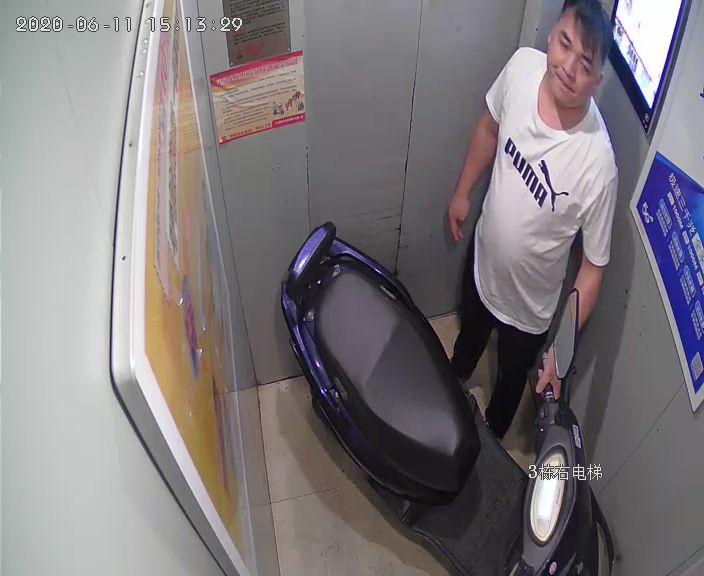Electric-bicycle: (280, 222, 619, 572)
